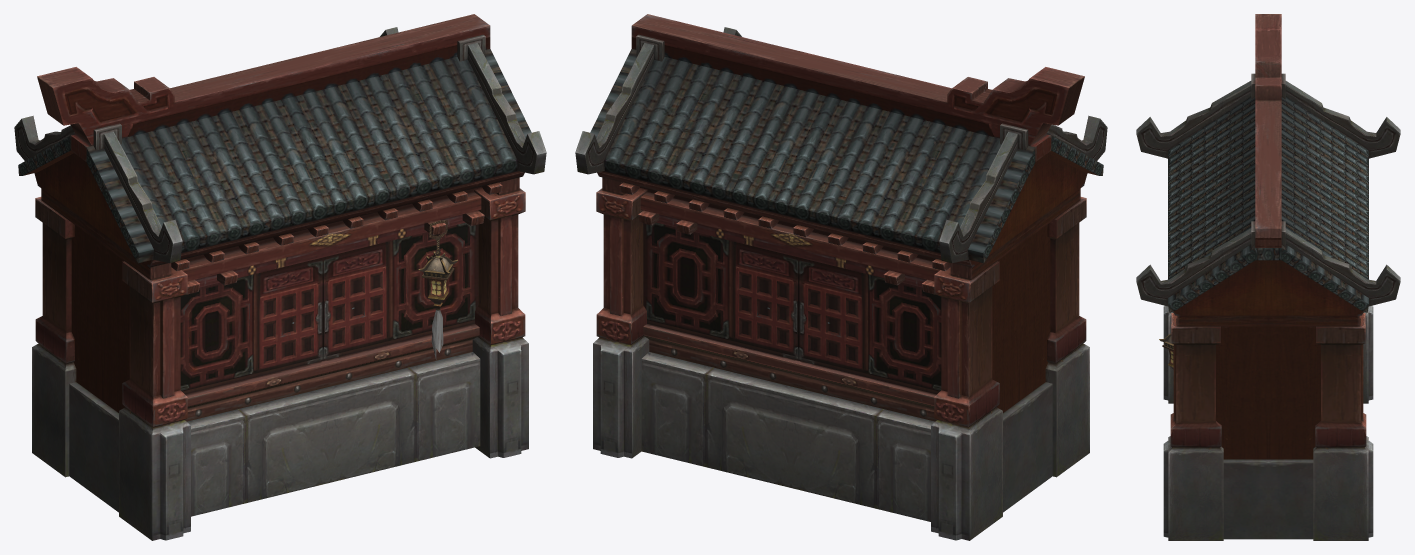
3 renders of one model, left to right at view 1: azimuth 30°, elevation 25°; view 2: azimuth 150°, elevation 25°; view 3: azimuth 270°, elevation 25°, orthographic. The views are drawn at different scales.
Visible parts, largest first — view 1: 52038_01; view 2: 52038_01; view 3: 52038_01.
Boxes of the visible parts, x1,y1,x2,y2 form: 52038_01: (14,14,546,540); 52038_01: (575,14,1107,540); 52038_01: (1136,14,1400,540).
Bounding box in the file's own units: 555 × 517 × 349.
